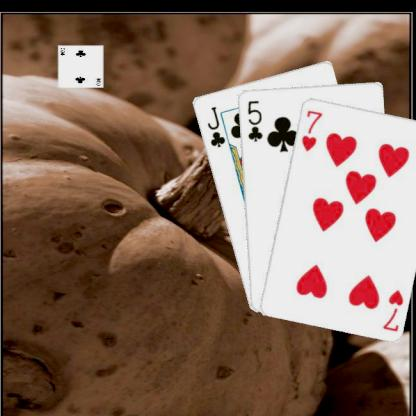5C: (244, 97, 264, 143)
7H: (298, 107, 324, 153), (380, 287, 404, 333)
JC: (204, 103, 226, 149)
